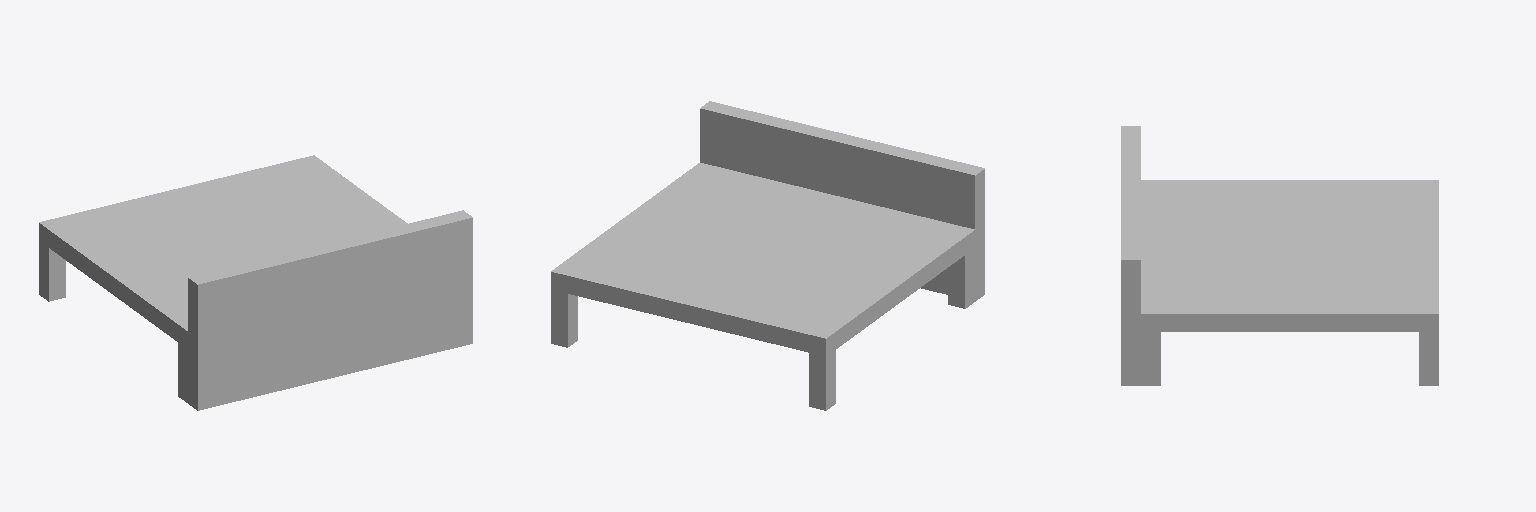
The model's file is Bed.obj.
3 renders of one model, left to right at view 1: azimuth 30°, elevation 25°; view 2: azimuth 150°, elevation 25°; view 3: azimuth 270°, elevation 25°, orthographic.
Parts seen in each view (by area): view 1: Base, Bed; view 2: Bed, Base; view 3: Bed, Base.
Part boxes in pixels (x1,y1,x2,y2): Base: (39,210,472,410); Bed: (39,155,407,348); Bed: (551,163,974,356); Base: (551,101,984,410); Bed: (1141,180,1438,331); Base: (1121,126,1438,385).
Size of the model in its own units: 1 by 0.4375 by 1.